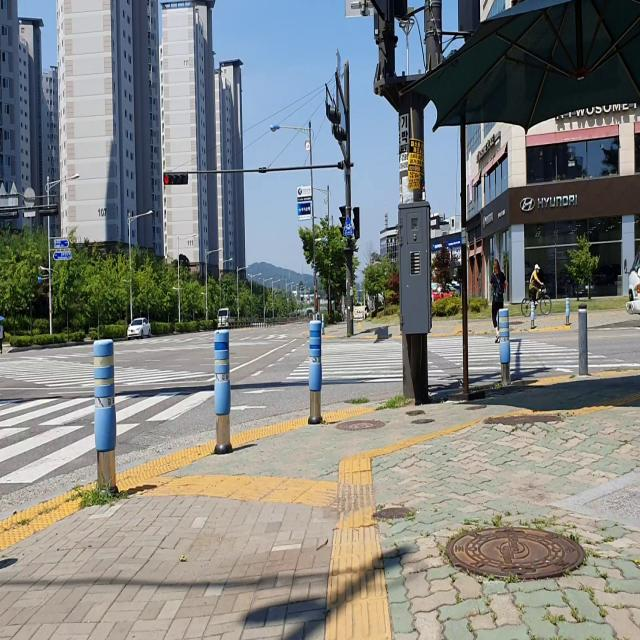횡단보도: (0, 358, 214, 485), (280, 332, 640, 385)
